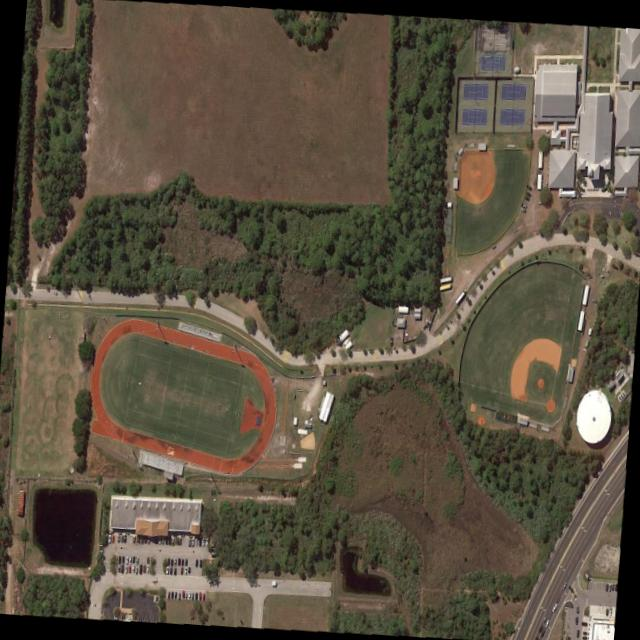large-vehicle: (454, 286, 466, 303), (439, 281, 452, 289)
small-vehicle: (544, 617, 550, 626), (561, 579, 567, 588), (524, 193, 530, 200), (525, 188, 531, 195), (538, 623, 543, 631), (120, 562, 124, 571), (541, 628, 545, 636), (134, 564, 138, 572), (542, 614, 546, 622), (552, 602, 556, 610), (604, 606, 608, 614), (190, 591, 194, 599), (520, 205, 525, 211), (139, 563, 142, 572), (605, 581, 608, 590), (146, 554, 149, 563), (169, 565, 172, 574), (120, 533, 123, 541), (188, 590, 191, 598), (143, 563, 146, 571), (205, 536, 208, 544), (521, 201, 527, 205), (611, 582, 614, 590), (528, 183, 532, 189), (118, 554, 121, 562), (581, 620, 587, 624), (576, 629, 579, 637), (188, 538, 191, 545), (184, 565, 187, 572), (188, 565, 191, 572), (123, 533, 126, 540), (108, 533, 111, 540), (166, 565, 169, 572), (131, 564, 134, 571), (575, 603, 578, 610), (132, 555, 135, 562), (132, 535, 135, 542), (575, 616, 578, 623), (136, 555, 139, 562), (129, 555, 132, 562), (195, 591, 198, 598), (184, 591, 187, 598), (181, 590, 184, 597), (199, 559, 202, 566), (181, 557, 184, 564), (173, 566, 176, 573), (538, 199, 543, 203), (566, 635, 571, 639), (201, 538, 204, 544), (128, 565, 131, 571), (121, 555, 124, 561), (174, 591, 177, 597), (171, 591, 174, 597), (195, 536, 197, 544), (192, 536, 194, 544), (172, 535, 174, 543), (147, 563, 149, 571), (169, 536, 171, 544), (158, 536, 161, 541), (199, 538, 201, 545), (113, 534, 115, 541), (126, 555, 128, 562), (117, 564, 119, 571), (141, 534, 143, 541), (162, 536, 164, 543), (174, 556, 176, 563), (165, 536, 167, 543), (167, 557, 169, 564), (178, 590, 180, 597), (195, 558, 197, 565), (185, 557, 187, 564), (117, 534, 119, 540), (125, 565, 127, 571), (147, 536, 149, 542), (171, 558, 173, 564), (199, 592, 201, 598), (181, 567, 183, 573), (178, 557, 180, 563), (145, 535, 146, 543), (203, 592, 204, 599), (168, 591, 169, 597)
storage-tank: (574, 386, 614, 444)
